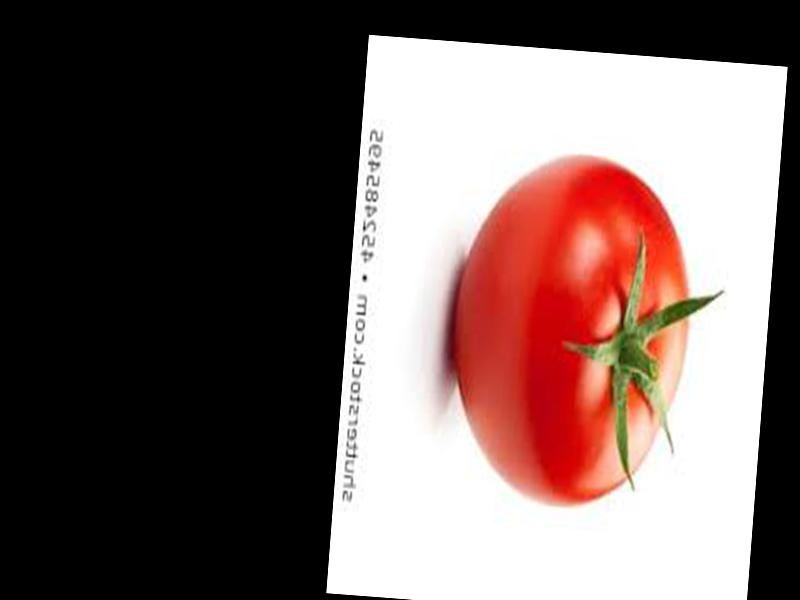Tomato: (440, 151, 700, 510)
